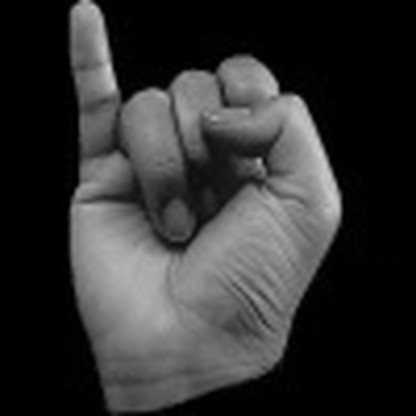i: (51, 2, 364, 387)
